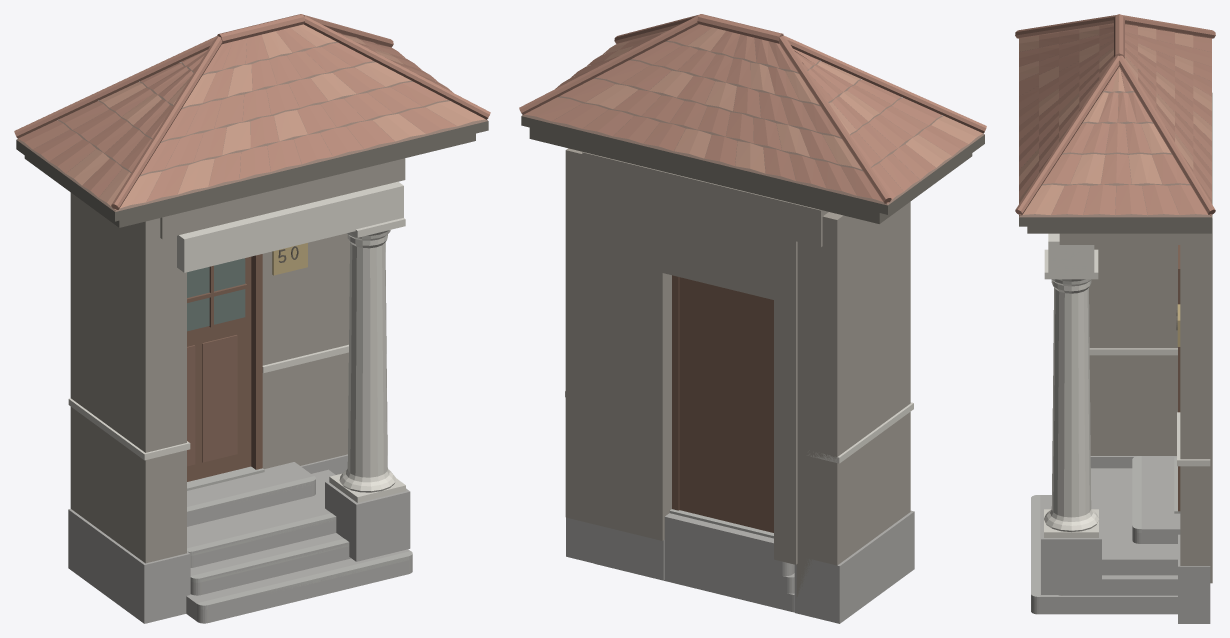
The model's file is huangpu-sinan-road-50-columned-porch-lod.glb.
The picture shows the model from 3 angles, left to right: view 1: azimuth 30°, elevation 25°; view 2: azimuth 150°, elevation 25°; view 3: azimuth 270°, elevation 25°; orthographic projection. The views are drawn at different scales.
Parts seen in each view (by area): view 1: 思南路50号花园住宅瓦檐门廊; view 2: 思南路50号花园住宅瓦檐门廊; view 3: 思南路50号花园住宅瓦檐门廊.
Boxes of the visible parts, box(x1,y1,x2,y2) form: 思南路50号花园住宅瓦檐门廊: box(14, 14, 490, 623); 思南路50号花园住宅瓦檐门廊: box(519, 14, 986, 623); 思南路50号花园住宅瓦檐门廊: box(1015, 14, 1215, 623).
Size of the model in its own units: 3.57 by 4.88 by 1.68.
